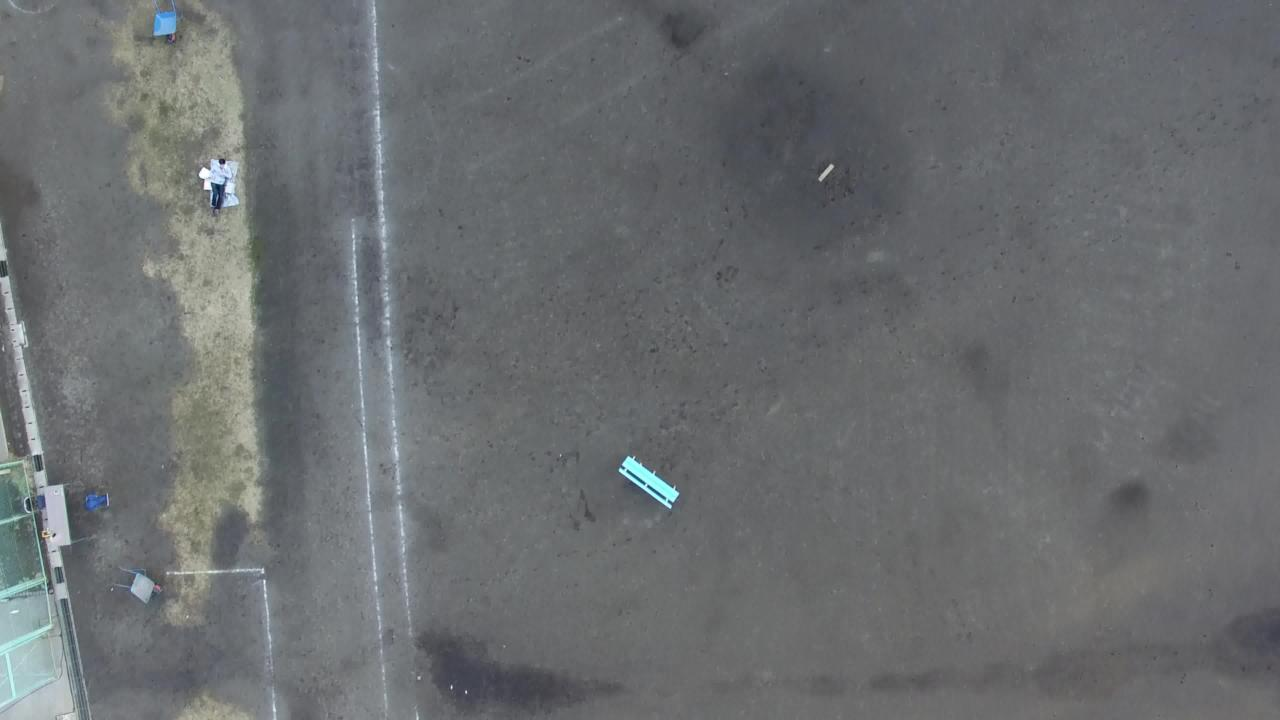person: (183, 154, 242, 217)
